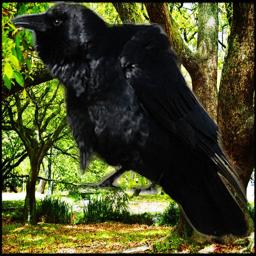Crow: (10, 1, 255, 242)
